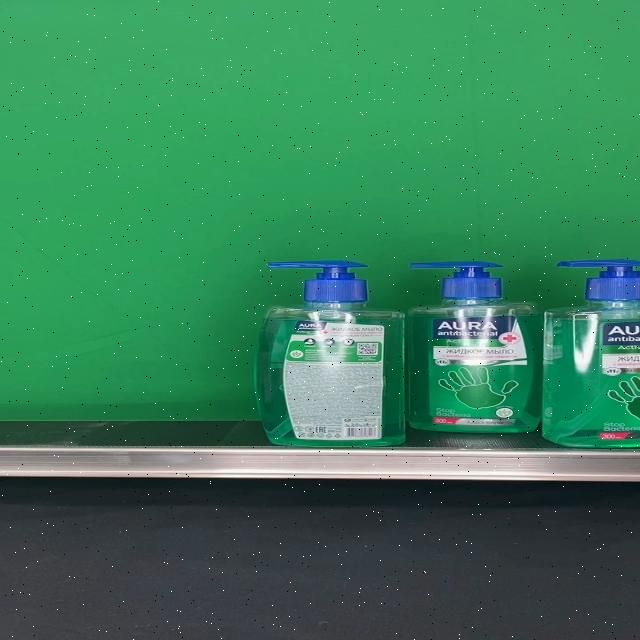Bottle: (253, 260, 404, 448), (406, 261, 544, 434)
Cap: (268, 261, 369, 305), (411, 261, 503, 301)
